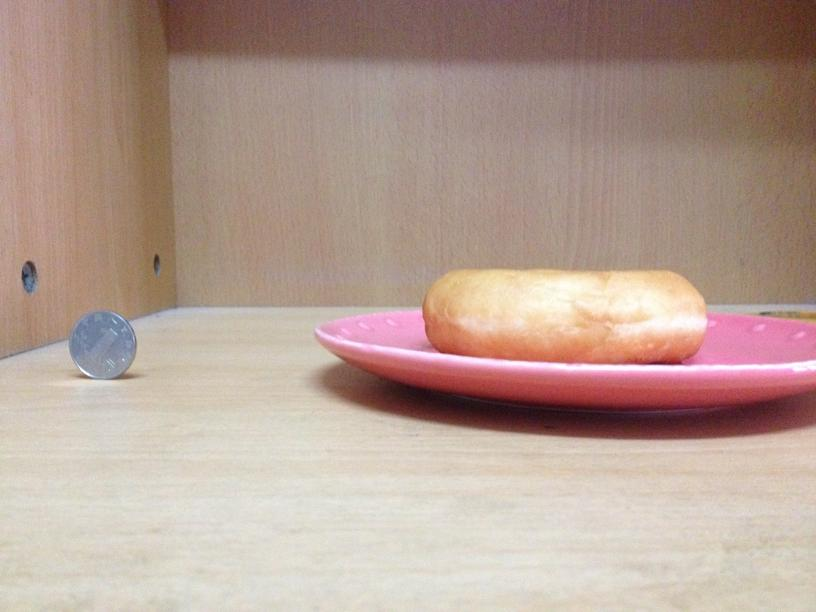coin: (70, 312, 136, 380)
doughnut: (420, 268, 705, 362)
